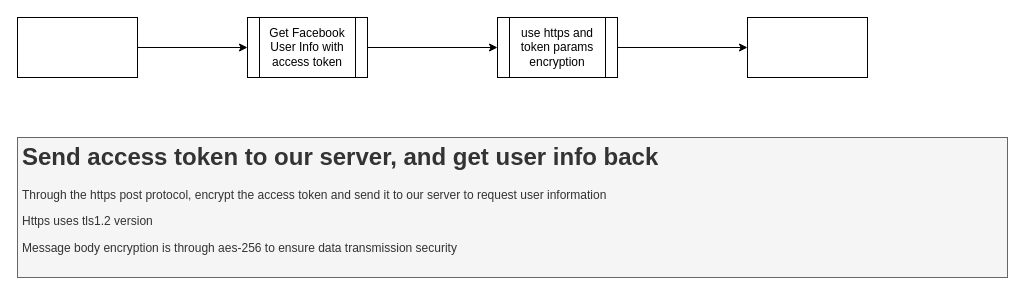
The diagram is 1025 pixels wide and 295 high, and some of its shapes have lost their labels. Each missing label, with the centre of its shape:
"APP" belongs at pixel 77 47.
"Our Server" belongs at pixel 807 47.
